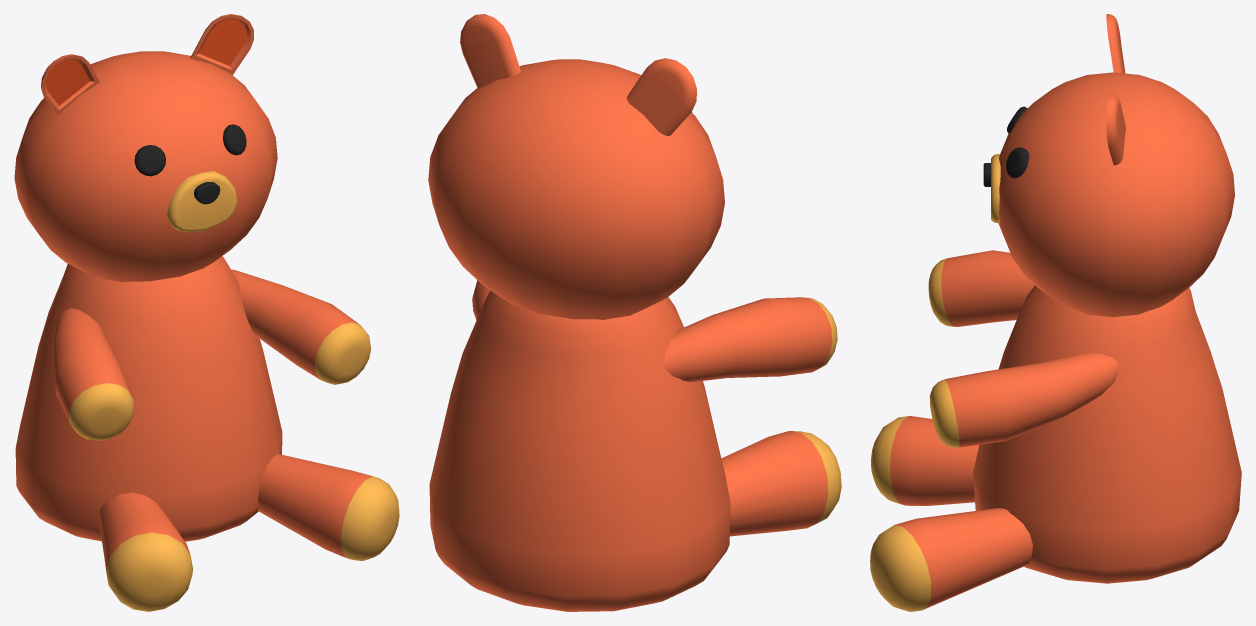
The model's file is Teddy.fbx.
3 renders of one model, left to right at view 1: azimuth 30°, elevation 25°; view 2: azimuth 150°, elevation 25°; view 3: azimuth 270°, elevation 25°, orthographic. The views are drawn at different scales.
Visible parts, largest first — view 1: Teddy; view 2: Teddy; view 3: Teddy.
Part boxes in pixels (x1,y1,x2,y2): Teddy: [14, 14, 399, 611]; Teddy: [428, 14, 841, 611]; Teddy: [870, 14, 1241, 611].
Bounding box in the file's own units: 17.13 × 25.76 × 17.6.
1 material, 1 textured.
